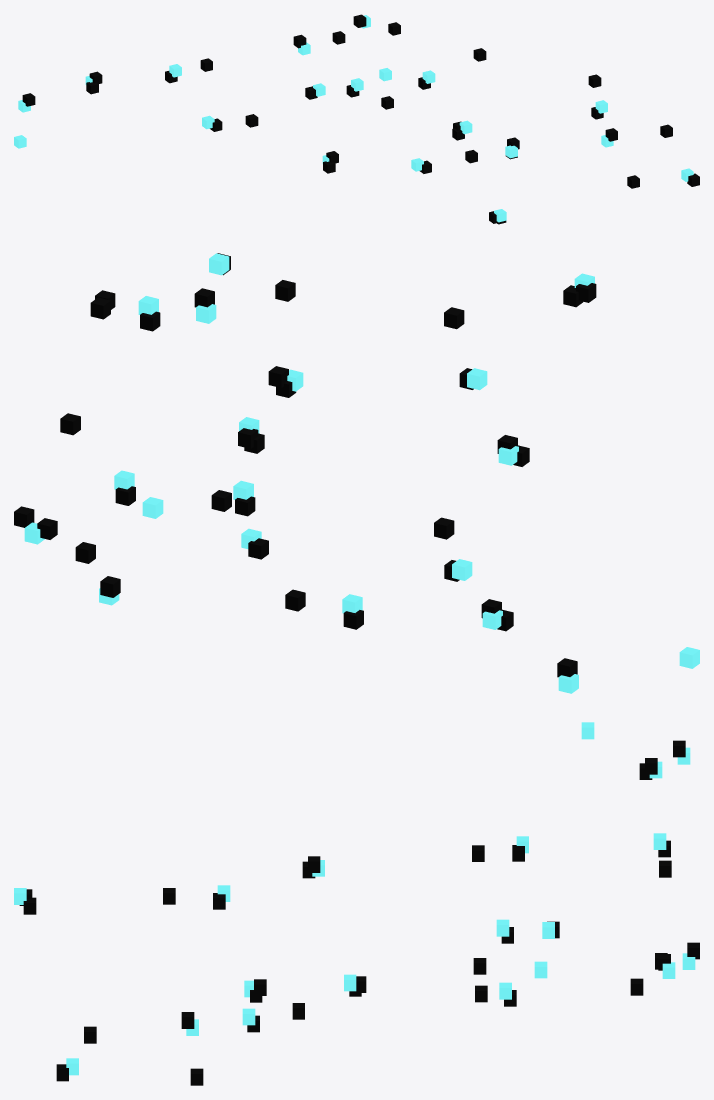
File: Cubos_Parte1_Blocagem.gltf
3 renders of one model, top to bottom at view 1: azimuth 30°, elevation 25°; view 2: azimuth 150°, elevation 25°; view 3: azimuth 270°, elevation 25°, orthographic. The views are drawn at different scales.
Parts seen in each view (by area): view 1: CubosBlocagem; view 2: CubosBlocagem; view 3: CubosBlocagem.
Part boxes in pixels (x1,y1,x2,y2): CubosBlocagem: (14, 14, 699, 224); CubosBlocagem: (14, 253, 699, 693); CubosBlocagem: (14, 722, 699, 1085).
Bounding box in the file's own units: 128 × 11.68 × 109.
Materials: 2 (1 with a texture image).
